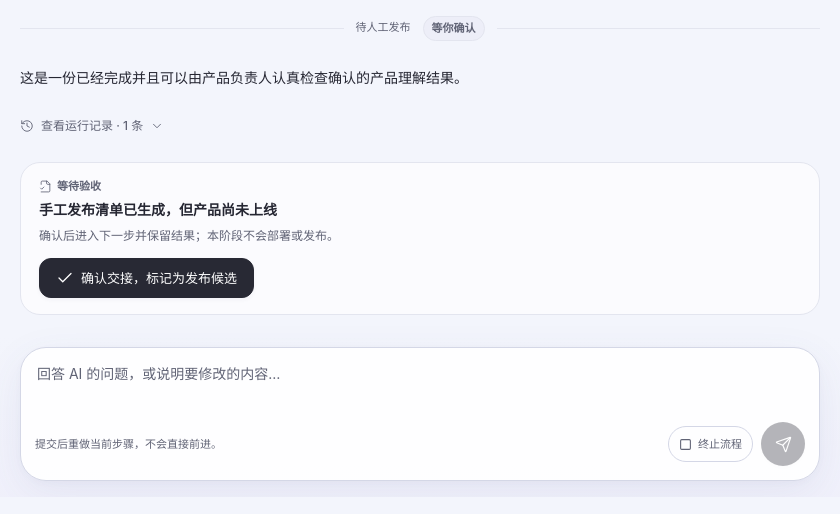
Test: RunConsole › refreshes the terminal approval into a saved user message without another confirmation
Click the button "确认交接，标记为发布候选" at point(146, 278), box 39,258 -> 254,298
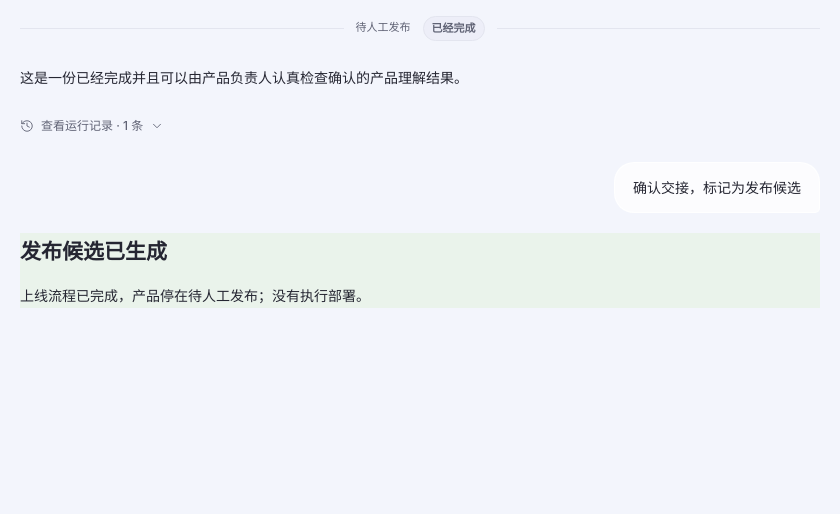
Check: the text "确认交接，标记为发布候选" is shown, box 614,162 -> 820,213
Check: the heading "发布候选已生成" is shown, box 20,239 -> 167,264
